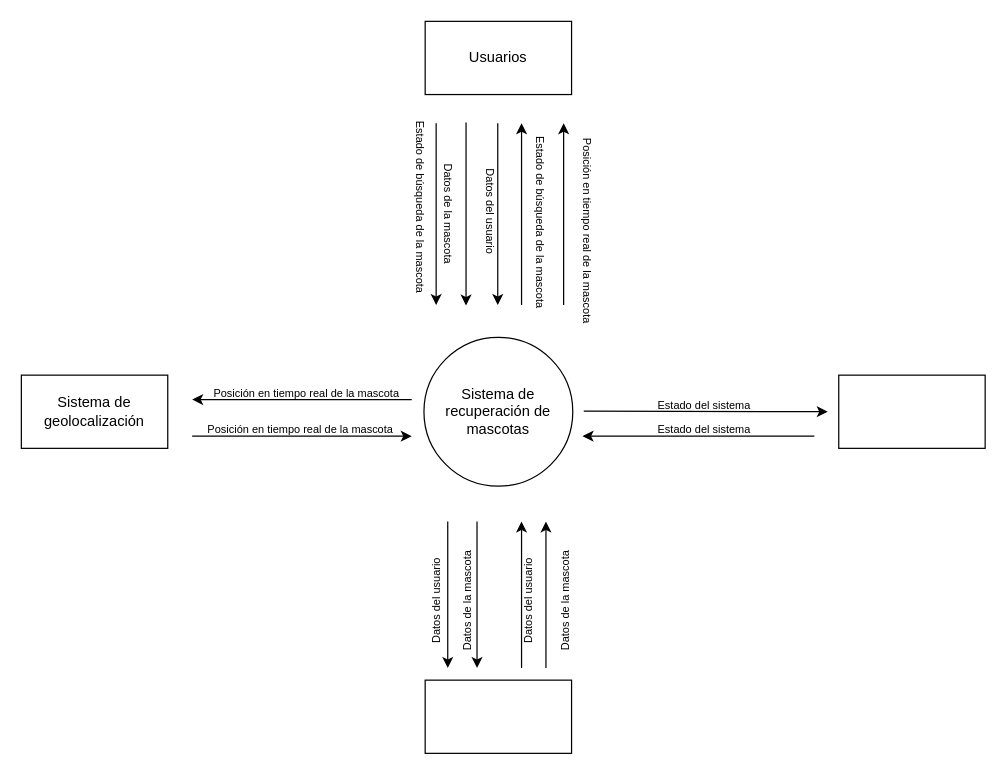
Image size: 1007x775. Some labels were removed from this diagram. Here are the shapes that lost their labels. From the top down, the box of each, then its label:
(838, 374, 985, 448): Municipio de Oro Verde
(424, 679, 572, 753): Bases de datos (de mascotas y usuarios)
